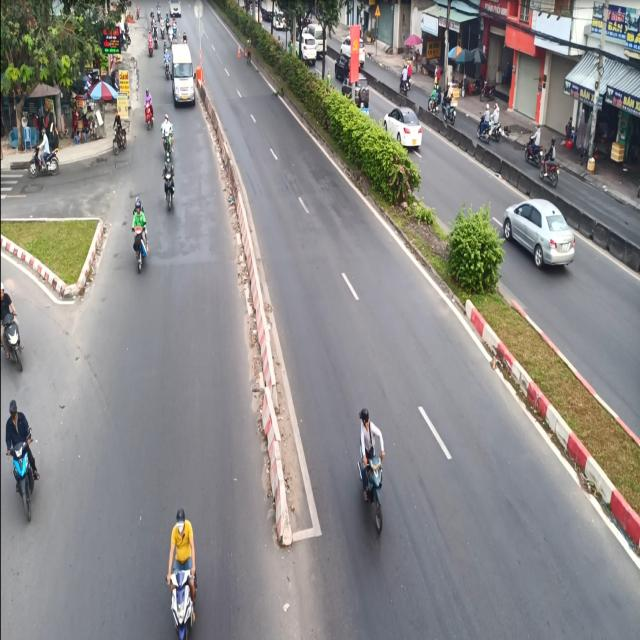car: (167, 42, 197, 110)
motor: (160, 502, 196, 640), (351, 400, 385, 529), (4, 398, 36, 519), (128, 193, 148, 275), (160, 157, 177, 220), (143, 86, 154, 136)
